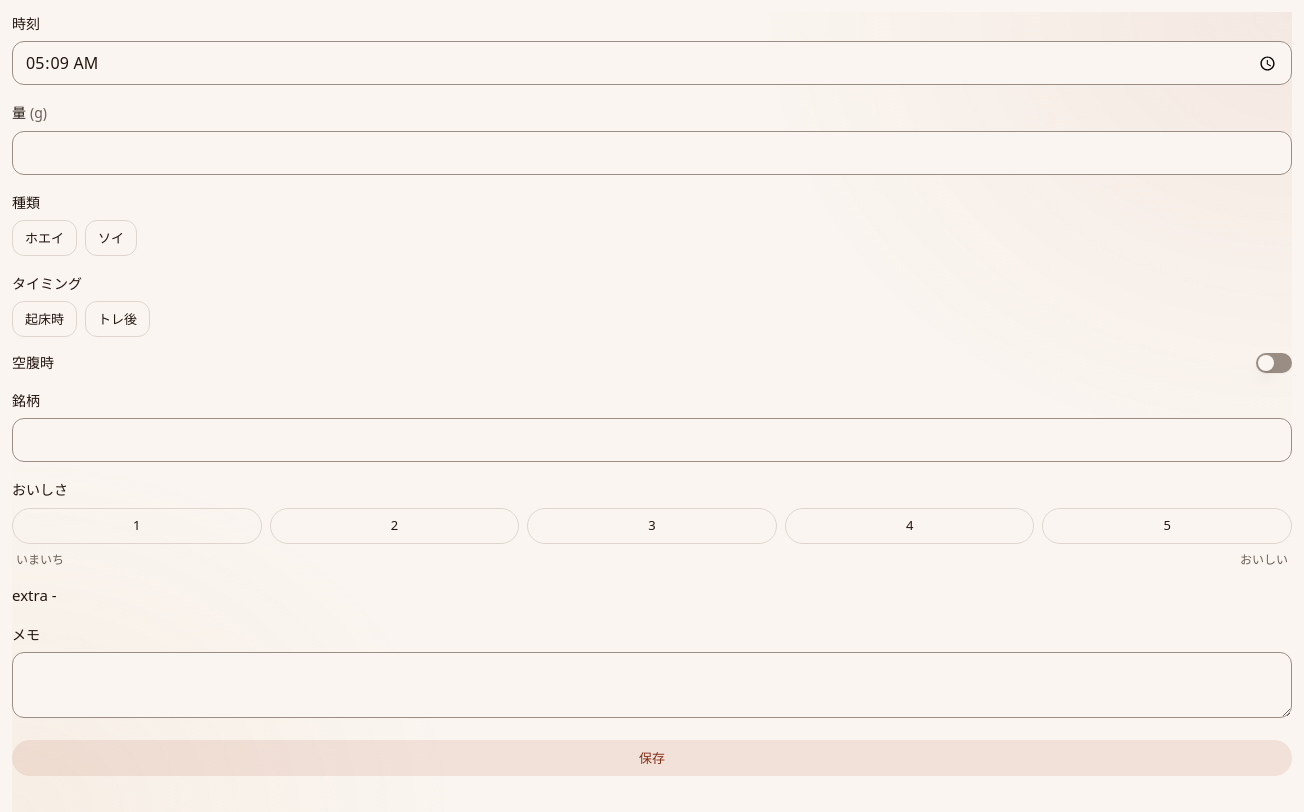
CustomRecordForm › renders a FormExtra with the values that would be saved and the record time
The image size is (1304, 812).
Expected: the text "extra -" is shown, [12,584,57,604]
In the number field: (652, 152) [12,130,1292,174], type "30"
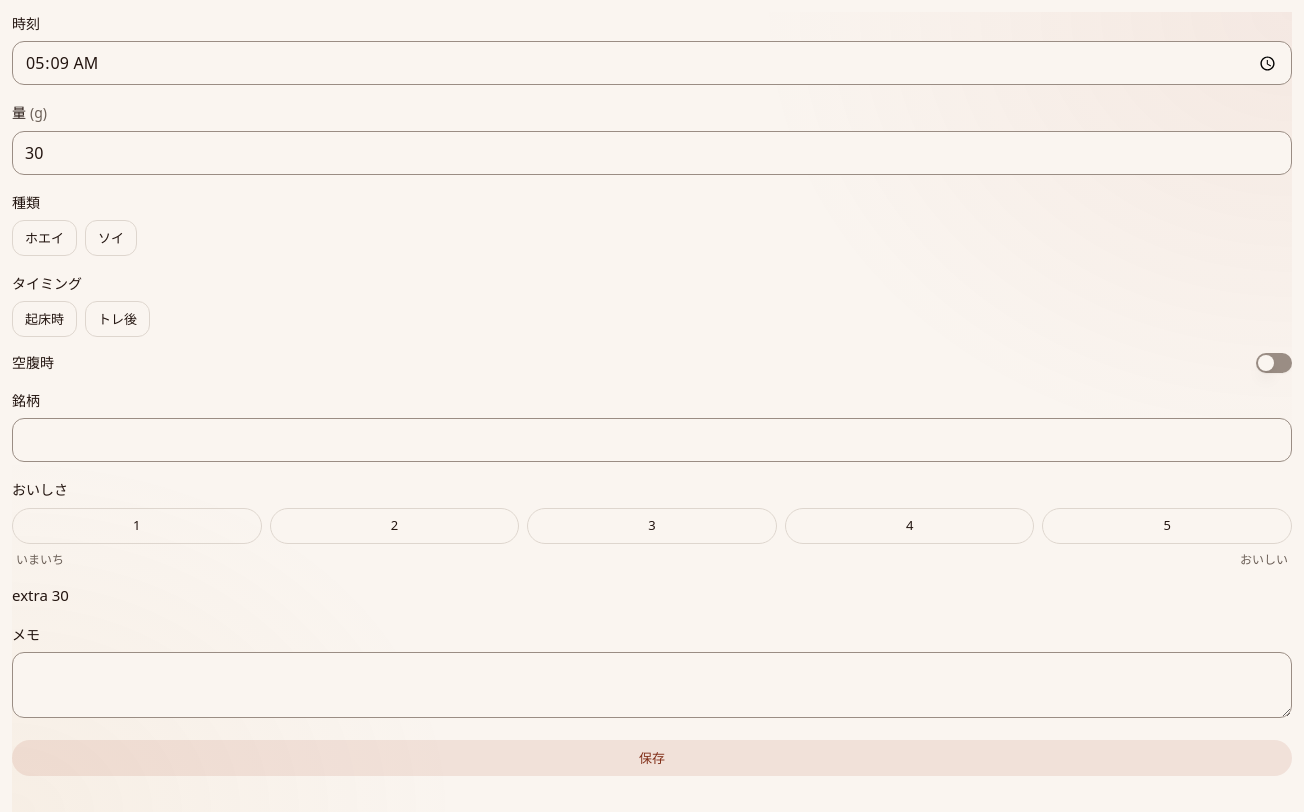
Result: the text "extra 30" is shown at [12,584,69,604]
# An out-of-range value is not passed on.
Replace the text in the number field with "500": (652, 152) [12,130,1292,174]
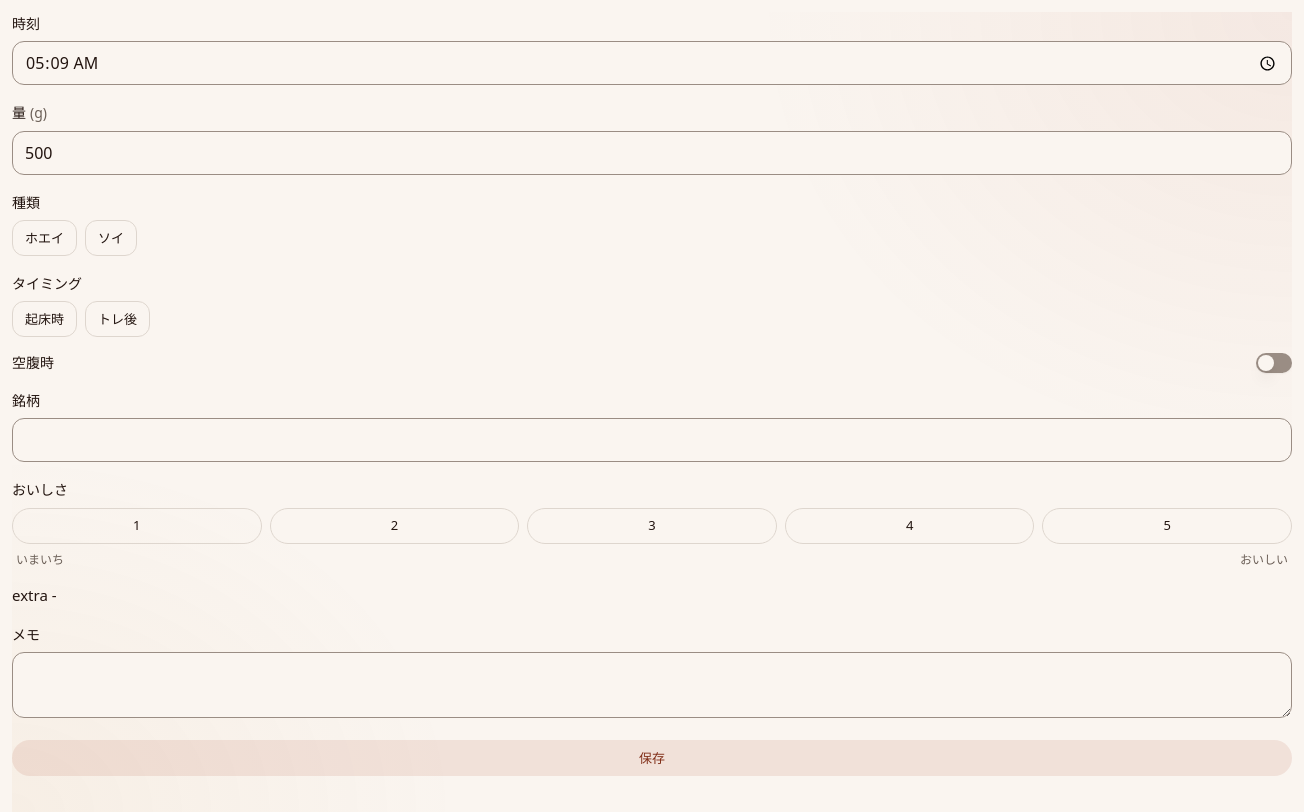
Result: the text "extra -" is shown at [12,584,57,604]
